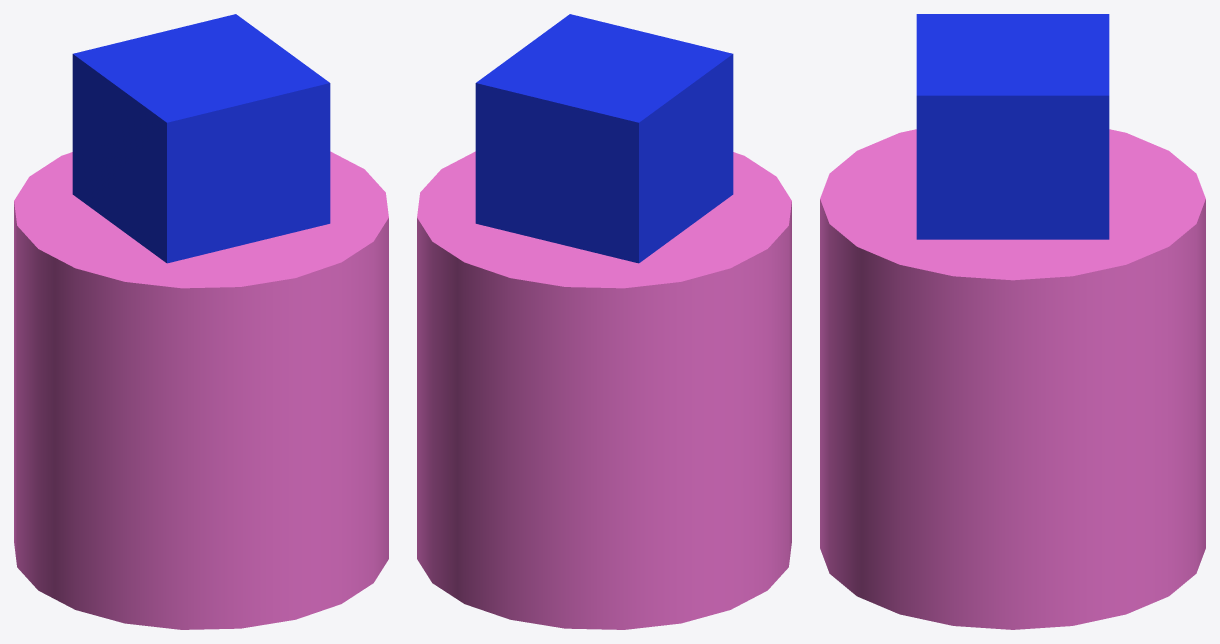
File: testtest.gltf
3 renders of one model, left to right at view 1: azimuth 30°, elevation 25°; view 2: azimuth 150°, elevation 25°; view 3: azimuth 270°, elevation 25°, orthographic. The views are drawn at different scales.
Parts seen in each view (by area): view 1: pCylinder1, pCube1; view 2: pCylinder1, pCube1; view 3: pCylinder1, pCube1.
Boxes of the visible parts, x1,y1,x2,y2 form: pCylinder1: (14,151,388,629); pCube1: (72,14,330,263); pCylinder1: (417,151,791,629); pCube1: (475,14,733,263); pCylinder1: (820,129,1205,629); pCube1: (916,14,1109,239).
Size of what is drawn, in the model's own units: 0.02 by 0.0282 by 0.02.
